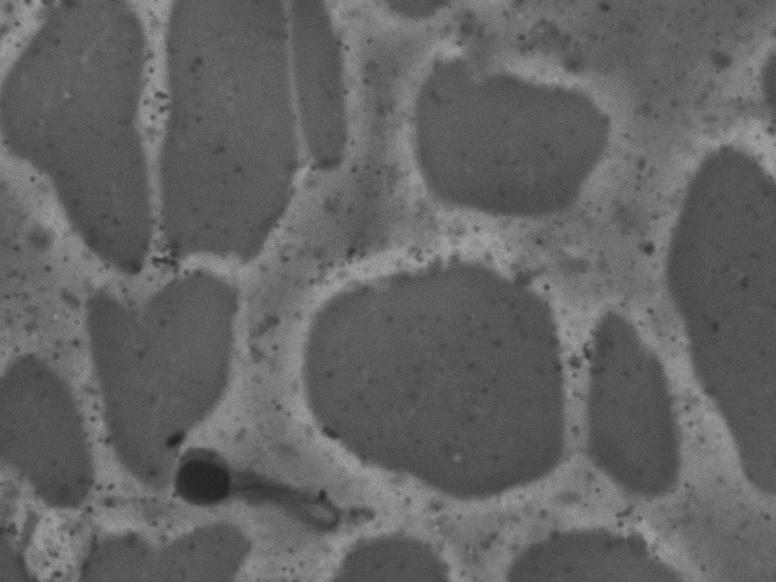Abnormal: (162, 440, 333, 536)
